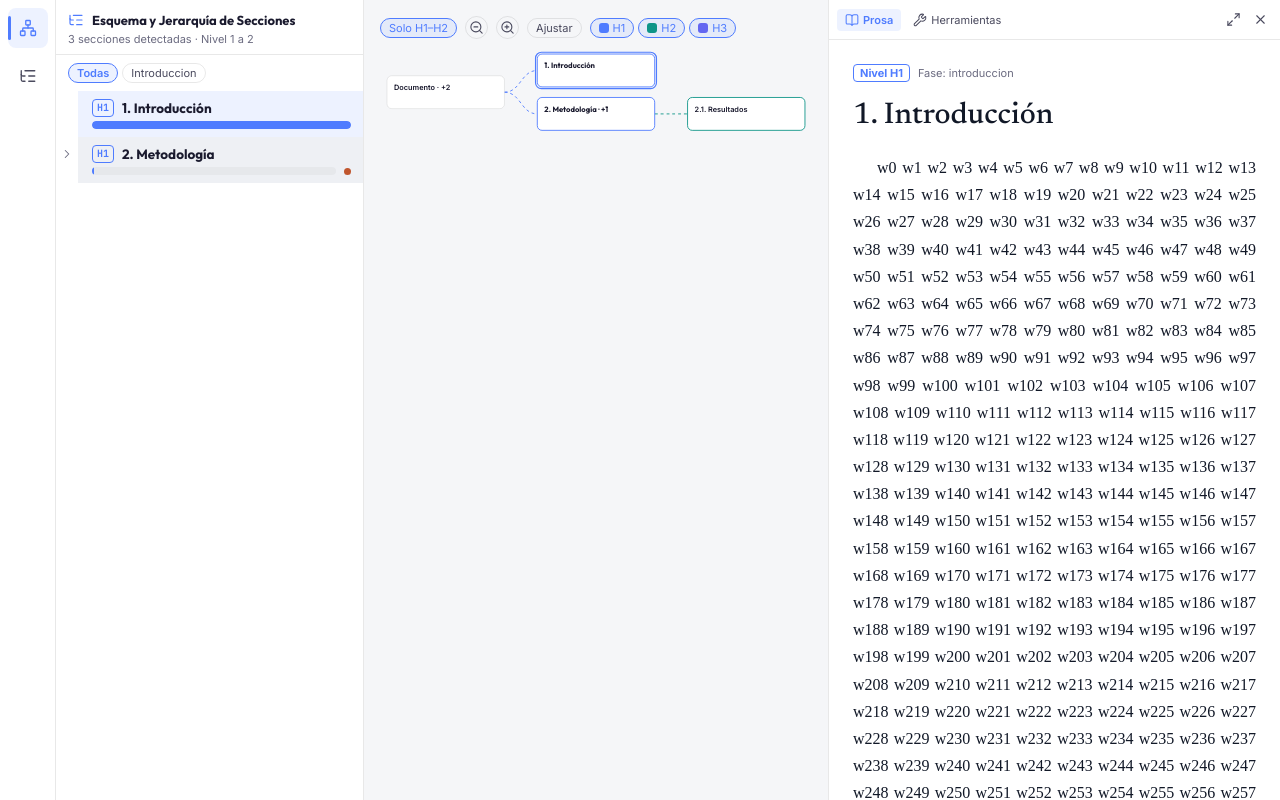
Scenario: la fase de Estructura está montada › el panel derecho ofrece Prosa y Herramientas
This screenshot has width=1280, height=800.
Expected: the tab "Prosa" is shown, [837, 8, 901, 30]
Click the tab "Herramientas" at x=957, y=20, box [905, 8, 1009, 30]
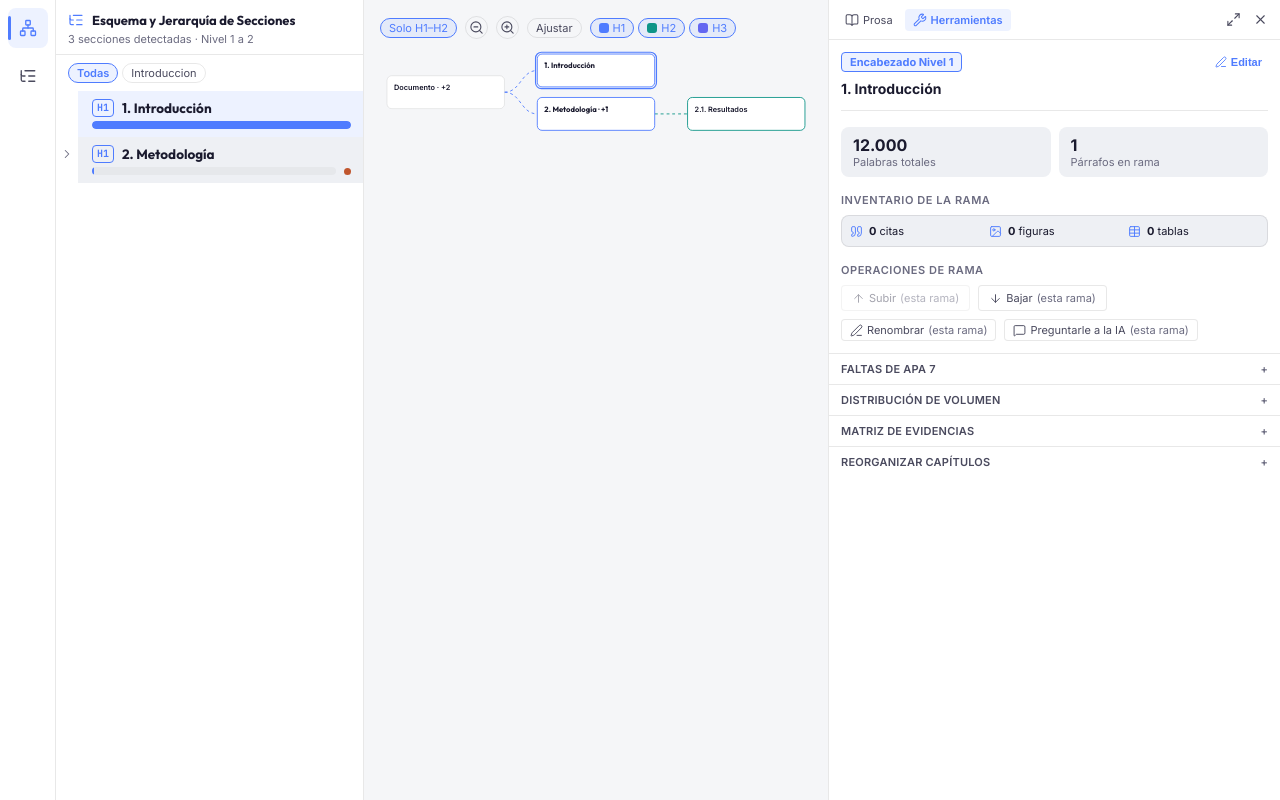
Result: the element with test id "panel-herramientas" is shown at [829, 40, 1279, 477]
